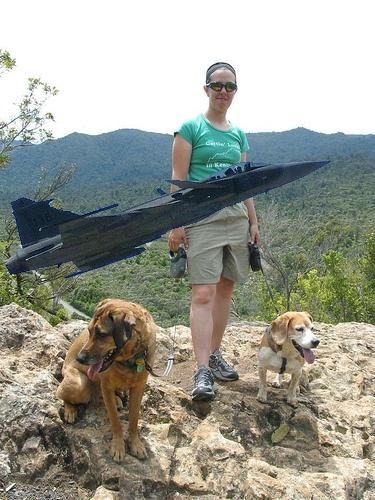tampered: (5, 160, 336, 278)
